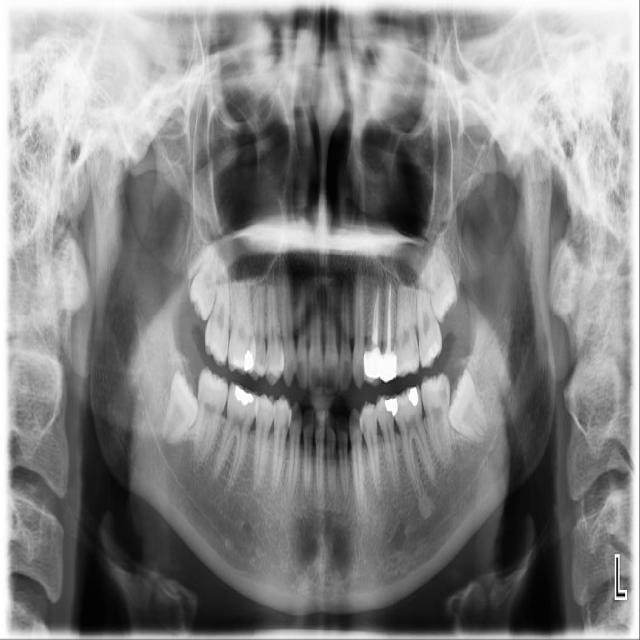Crown: (363, 346, 382, 388), (378, 352, 397, 384)
Filling: (235, 344, 253, 372), (382, 396, 401, 419), (232, 386, 255, 405), (402, 388, 420, 409)
Root Canal Treatment: (387, 282, 392, 340), (374, 285, 378, 344)
impacted tooth: (412, 237, 462, 320), (446, 370, 495, 441), (160, 369, 197, 442), (190, 244, 217, 319)
